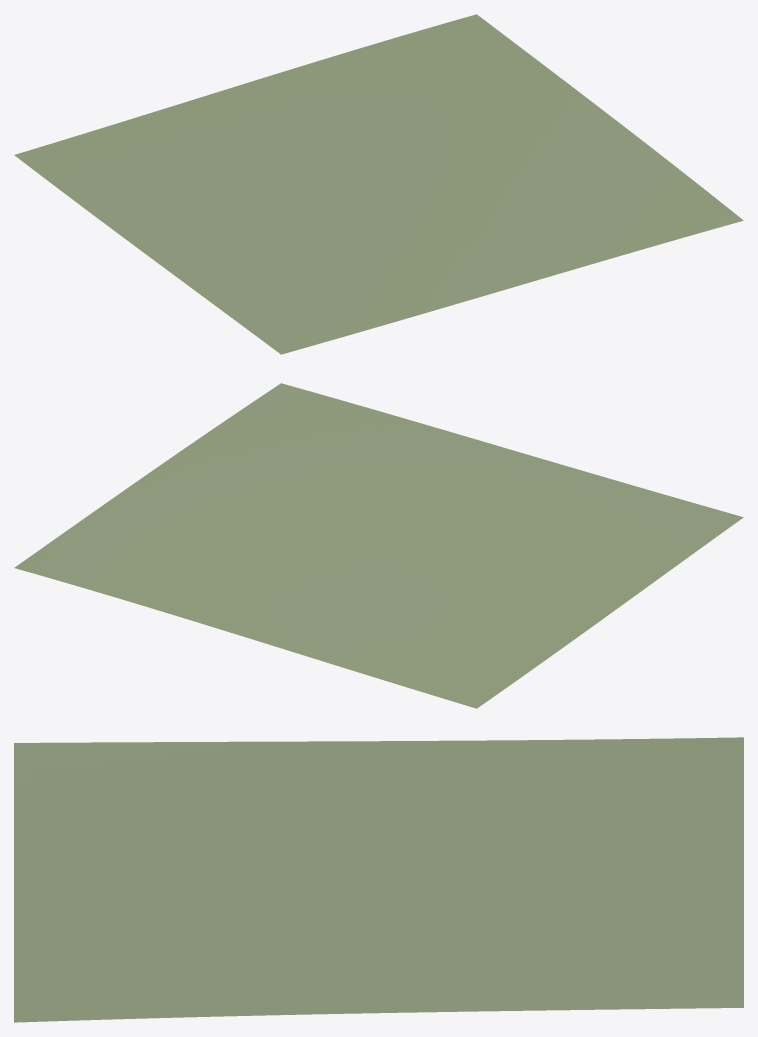
The model's file is expanse-21-17.glb.
3 renders of one model, top to bottom at view 1: azimuth 30°, elevation 25°; view 2: azimuth 150°, elevation 25°; view 3: azimuth 270°, elevation 25°, orthographic. The views are drawn at different scales.
Visible parts, largest first — view 1: expanse-21-17; view 2: expanse-21-17; view 3: expanse-21-17.
Part boxes in pixels (x1,y1,x2,y2): expanse-21-17: (14,14,743,354); expanse-21-17: (14,383,743,708); expanse-21-17: (14,737,743,1022).
Size of the model in its own units: 256 by 16.9 by 256.
